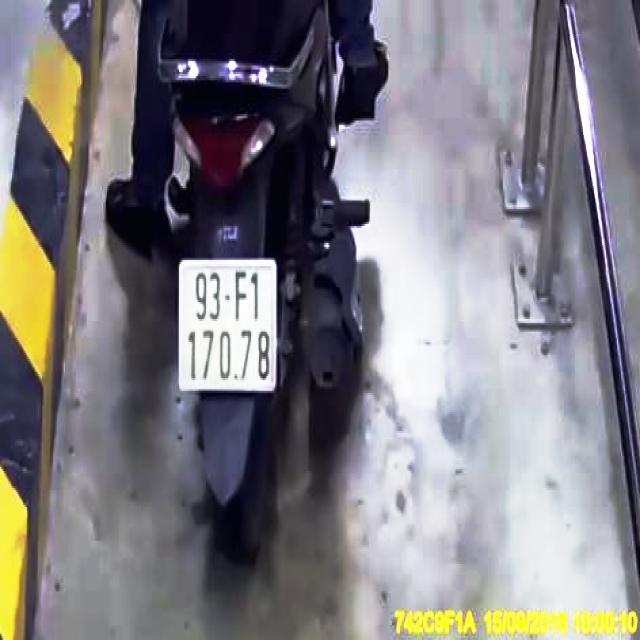license_plate: (178, 262, 277, 391)
